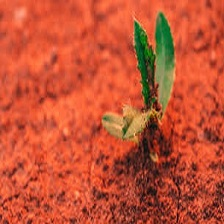clay_soil: (14, 16, 213, 208)
